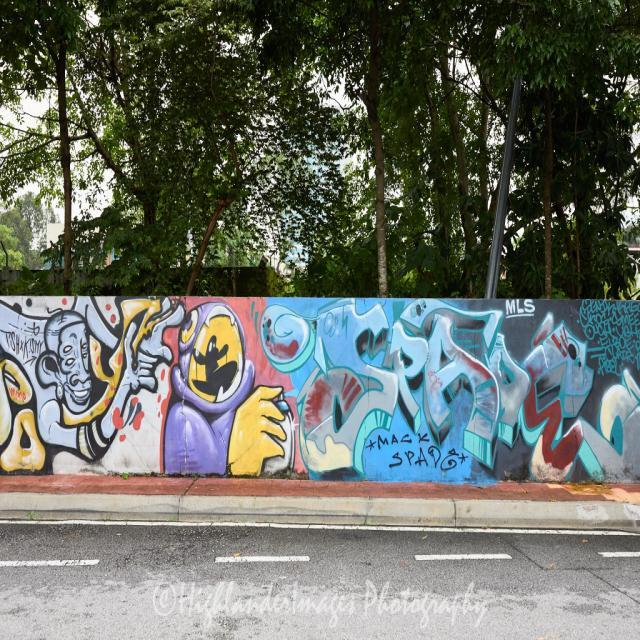-: (0, 293, 640, 482)
